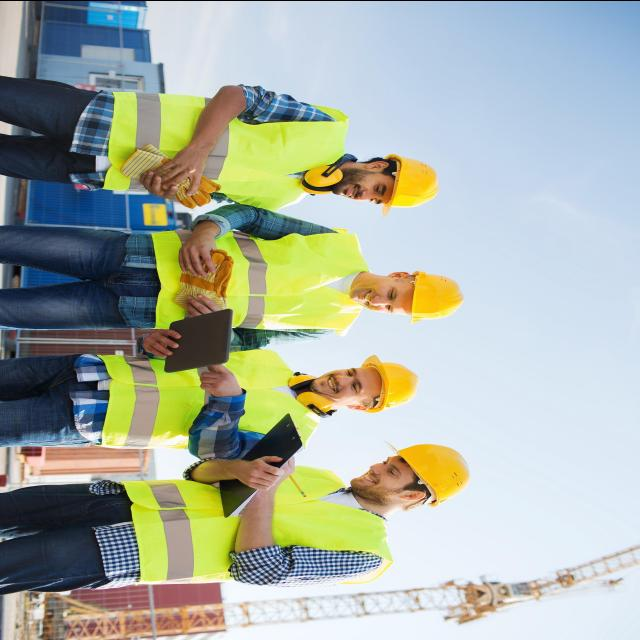helmet: (399, 436, 490, 515), (377, 144, 447, 224), (355, 353, 429, 420), (400, 263, 474, 327)
jacket: (108, 462, 404, 600), (92, 88, 365, 210), (126, 220, 372, 332), (94, 339, 344, 447)
